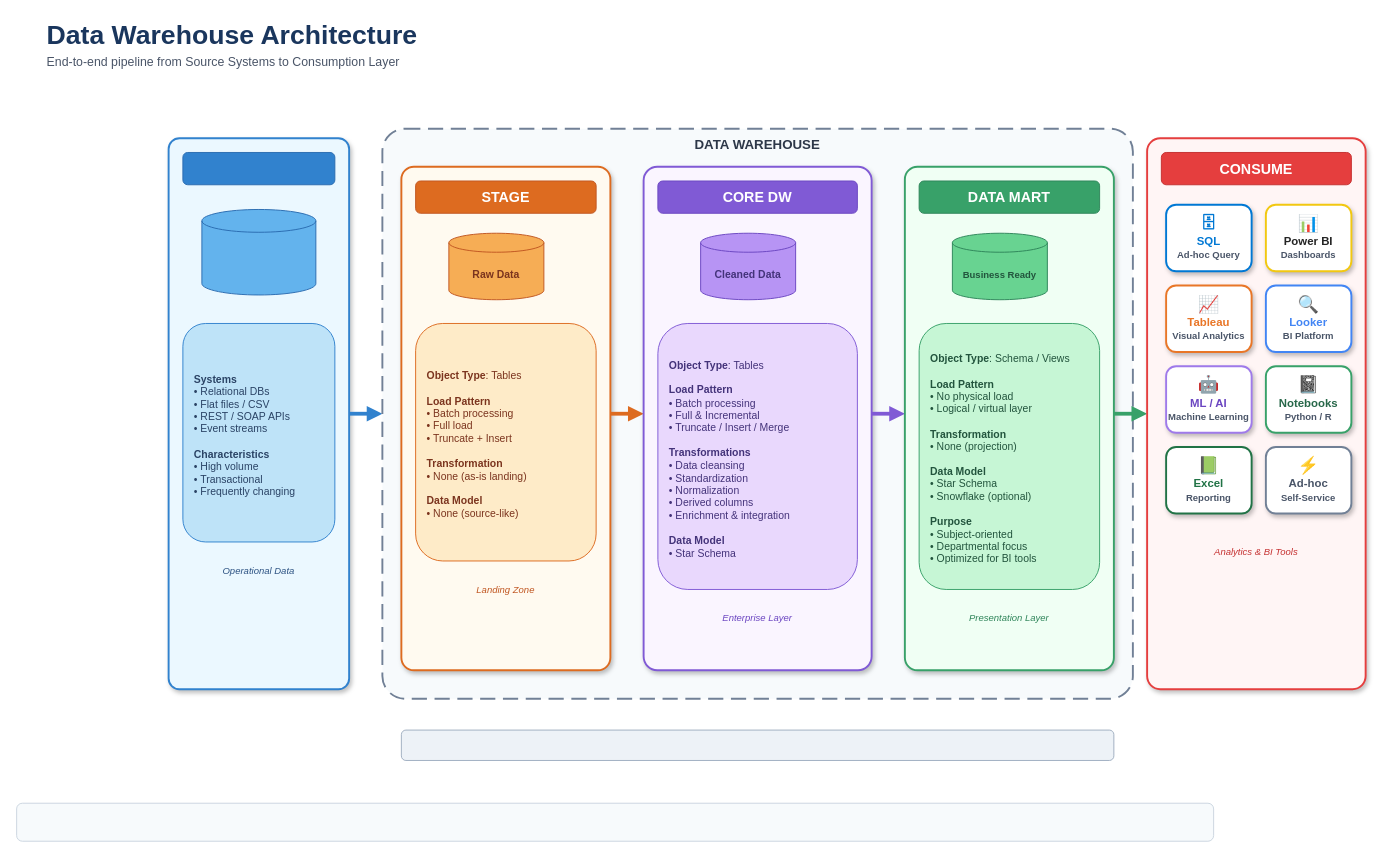
Image size: 1389x858. Some labels were removed from this diagram. The shapes that lost their labels are listed below. From the top down, each one's centre as x and y in pixels, then its label:
point 258,168: SOURCE
point 258,252: OLTP / Files / APIs
point 757,744: Raw → Cleaned → Business Ready → Insights
point 615,821: Color Legend ● Source ● Stage (Raw) ● Core DW (Cleaned) ● Data Mart ● Consume
